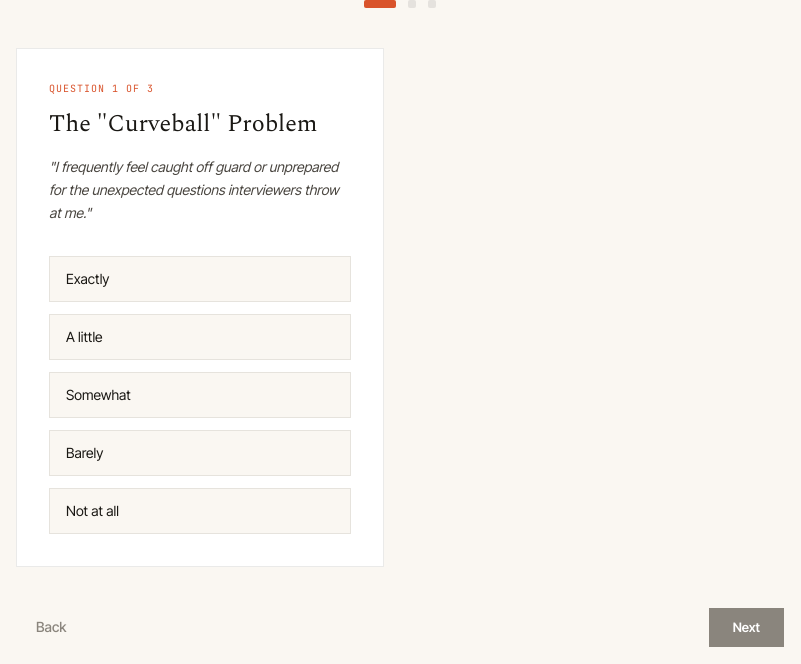
Test case: SurveyStep › shows value proposition card when Exactly is selected
Click the button "Exactly".
click(88, 279)  # box [49,256,351,302]
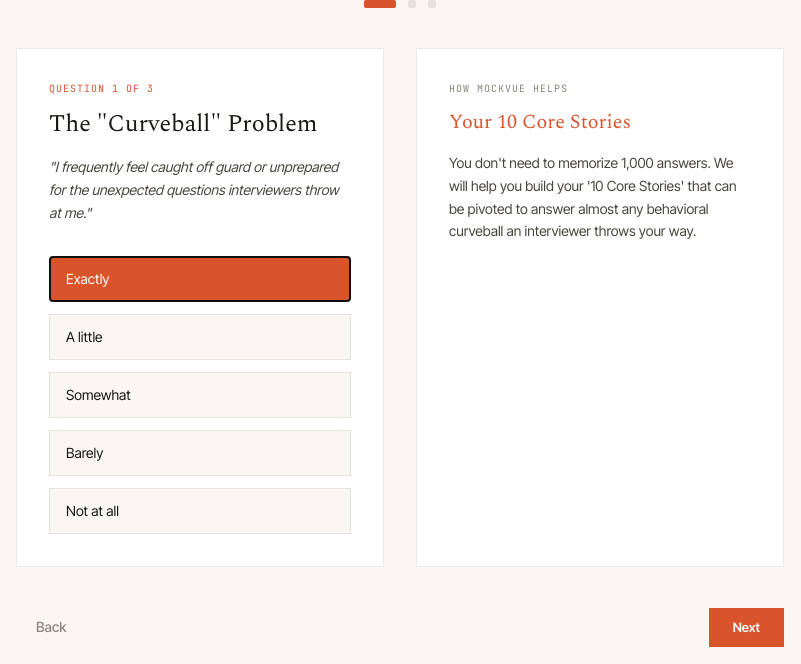
Now the heading "Your 10 Core Stories" is shown, box [449,107,631,137]
Now the text "You don't need to memorize 1,000 answers" is shown, box [449,154,737,239]
